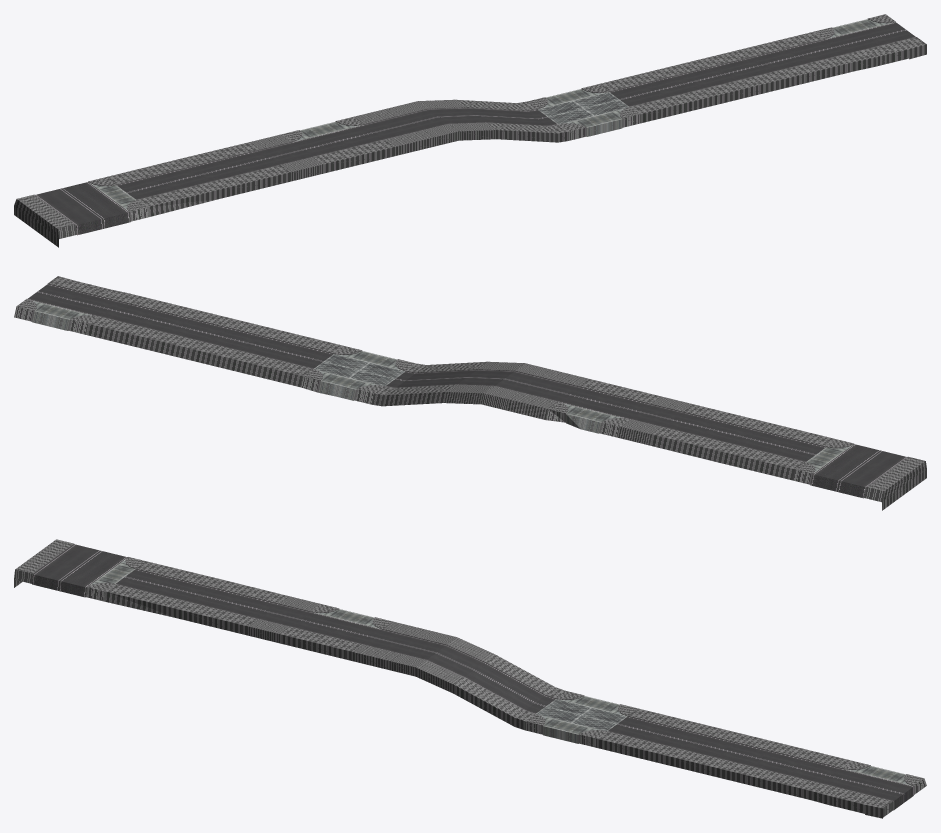
File: road_sfw25.obj
The picture shows the model from 3 angles, top to bottom: view 1: azimuth 30°, elevation 25°; view 2: azimuth 150°, elevation 25°; view 3: azimuth 330°, elevation 25°; orthographic projection.
Parts seen in each view (by area): view 1: road_SFW25; view 2: road_SFW25; view 3: road_SFW25.
Boxes of the visible parts, box(x1,y1,x2,y2) form: road_SFW25: box(14, 14, 926, 247); road_SFW25: box(14, 276, 926, 510); road_SFW25: box(14, 539, 926, 818).
Bounding box in the file's own units: 243 × 10.06 × 21.84.
5 materials, 5 textured.
